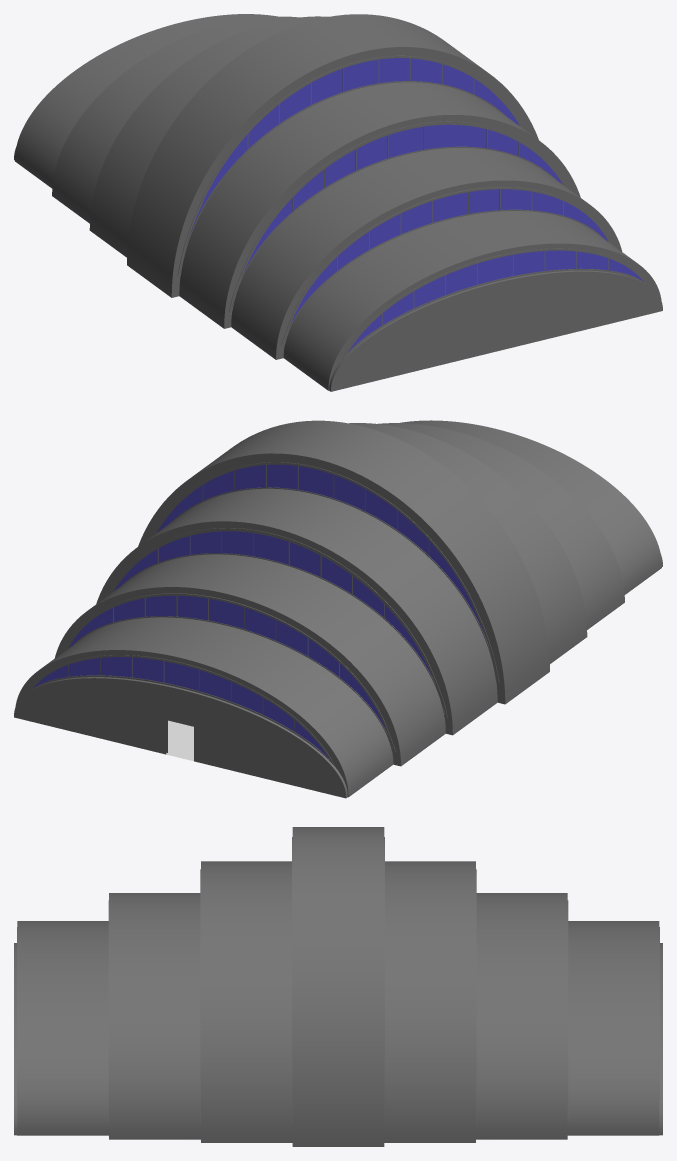
File: Building.fbx
3 renders of one model, top to bottom at view 1: azimuth 30°, elevation 25°; view 2: azimuth 150°, elevation 25°; view 3: azimuth 270°, elevation 25°, orthographic. The views are drawn at different scales.
Visible parts, largest first — view 1: Walls, Windows; view 2: Walls, Windows, Floor; view 3: Walls, Windows.
Part boxes in pixels (x1,y1,x2,y2): Walls: [14, 14, 662, 391]; Windows: [177, 55, 647, 359]; Walls: [14, 420, 662, 798]; Windows: [29, 462, 499, 765]; Floor: [166, 720, 193, 761]; Walls: [14, 827, 662, 1146]; Windows: [17, 837, 659, 1123].
Size of what is drawn, in the model's own units: 2388 by 1204 by 3464.
